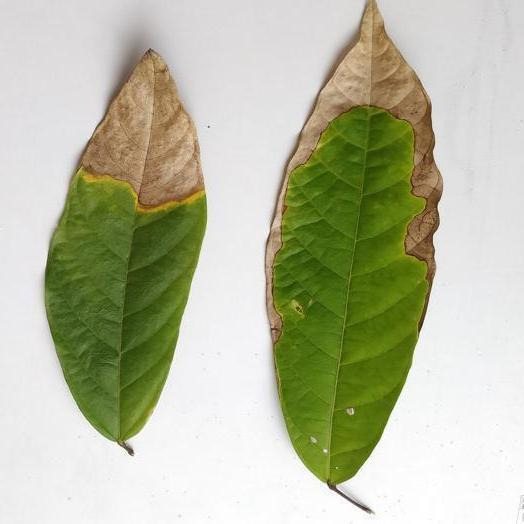Potassium: (267, 0, 441, 511), (46, 50, 206, 454)
